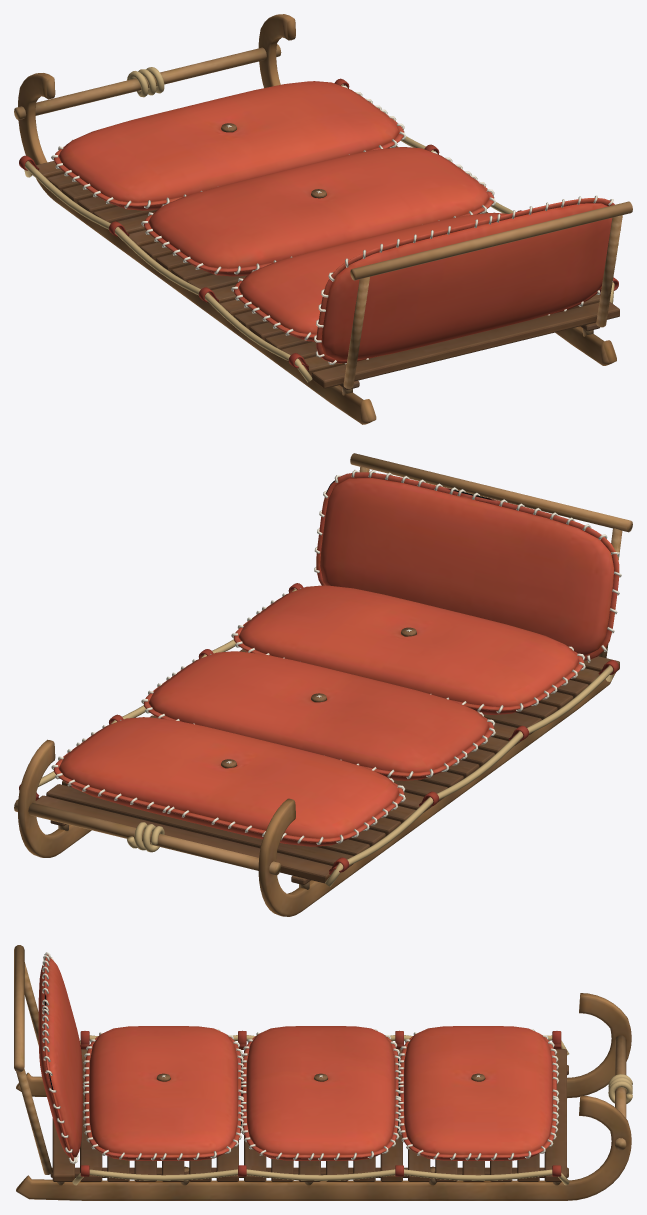
The model's file is sled_mid.glb.
3 renders of one model, top to bottom at view 1: azimuth 30°, elevation 25°; view 2: azimuth 150°, elevation 25°; view 3: azimuth 270°, elevation 25°, orthographic. The views are drawn at different scales.
Visible parts, largest first — view 1: cushions.001, board.001, runners.001, back_frame.001, hemp.001, struts.001, stitches.001, loops.001; view 2: cushions.001, board.001, runners.001, back_frame.001, hemp.001, struts.001, stitches.001, loops.001; view 3: cushions.001, runners.001, board.001, hemp.001, stitches.001, back_frame.001, struts.001, loops.001.
Boxes of the visible parts, x1=… form: cushions.001: x1=53, y1=81, x2=614, y2=363; board.001: x1=31, y1=146, x2=619, y2=389; runners.001: x1=18, y1=14, x2=616, y2=424; back_frame.001: x1=343, y1=201, x2=632, y2=388; hemp.001: x1=24, y1=67, x2=614, y2=382; struts.001: x1=14, y1=44, x2=593, y2=395; stitches.001: x1=51, y1=85, x2=620, y2=364; loops.001: x1=19, y1=78, x2=618, y2=370; cushions.001: x1=54, y1=472, x2=619, y2=846; board.001: x1=35, y1=649, x2=619, y2=884; runners.001: x1=17, y1=672, x2=615, y2=916; back_frame.001: x1=350, y1=453, x2=632, y2=657; hemp.001: x1=38, y1=589, x2=613, y2=886; struts.001: x1=14, y1=799, x2=309, y2=889; stitches.001: x1=51, y1=470, x2=621, y2=844; loops.001: x1=19, y1=583, x2=618, y2=874; cushions.001: x1=38, y1=954, x2=556, y2=1161; runners.001: x1=16, y1=993, x2=631, y2=1200; board.001: x1=50, y1=1049, x2=568, y2=1181; hemp.001: x1=72, y1=1035, x2=632, y2=1185; stitches.001: x1=42, y1=952, x2=559, y2=1163; back_frame.001: x1=14, y1=945, x2=52, y2=1174; struts.001: x1=57, y1=1035, x2=626, y2=1185; loops.001: x1=80, y1=1030, x2=561, y2=1176.
Bounding box in the file's own units: 1.63 × 0.8127 × 3.06.
Materials: 9 (7 with a texture image).
